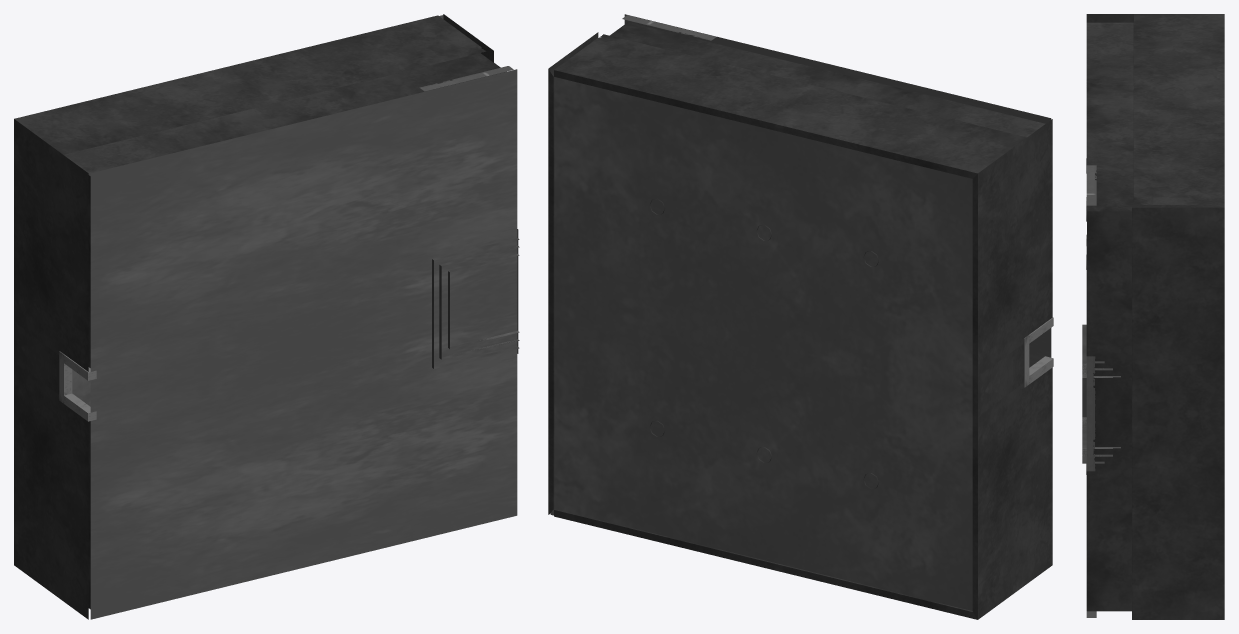
The model's file is bossRoom.fbx.
3 renders of one model, left to right at view 1: azimuth 30°, elevation 25°; view 2: azimuth 150°, elevation 25°; view 3: azimuth 270°, elevation 25°, orthographic. The views are drawn at different scales.
Visible parts, largest first — view 1: Room_Exit_4_V3; view 2: Room_Exit_4_V3; view 3: Room_Exit_4_V3.
Boxes of the visible parts, x1,y1,x2,y2 form: Room_Exit_4_V3: [14, 14, 519, 619]; Room_Exit_4_V3: [548, 14, 1053, 619]; Room_Exit_4_V3: [1082, 14, 1224, 619].
Size of the model in its own units: 8052 by 7980 by 2500.
